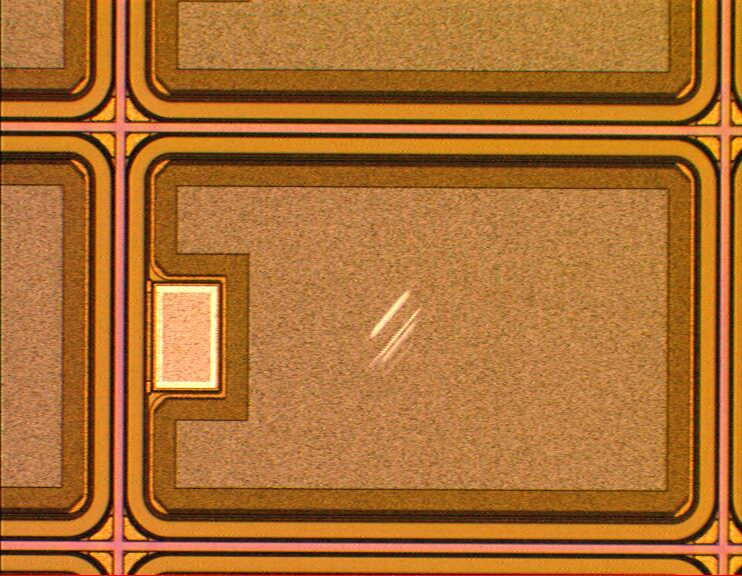SCRATCH: (360, 281, 430, 381)
